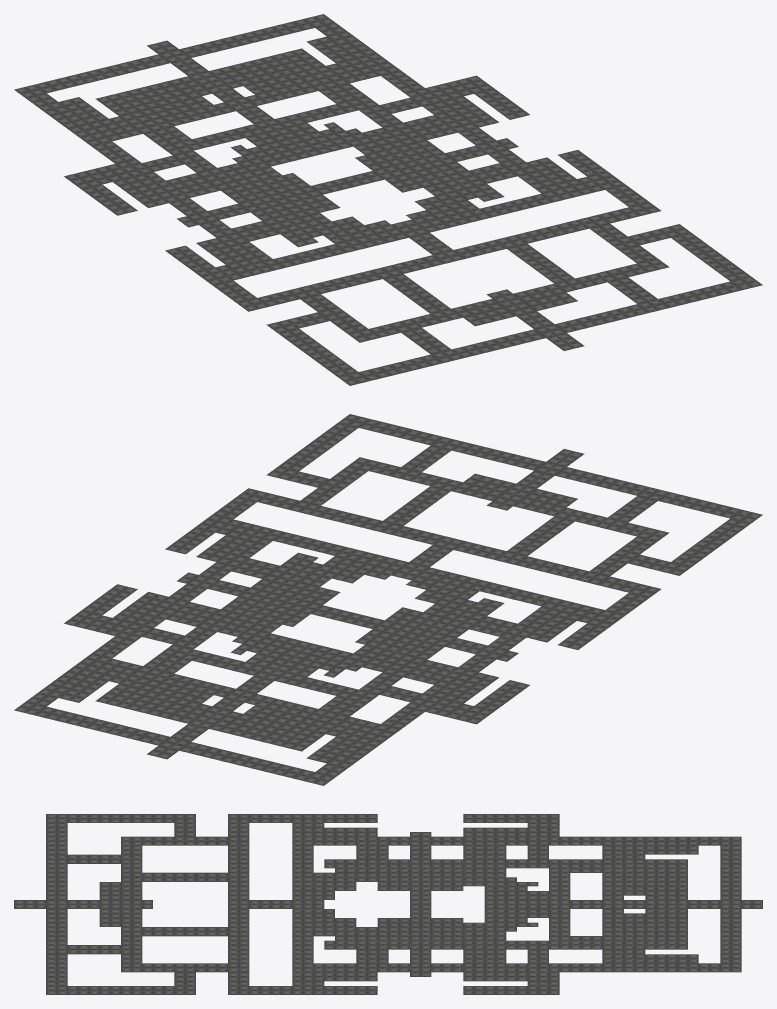
Rendered from Floor2Floors.fbx.
3 views of the same model, one above another, from view 1: azimuth 30°, elevation 25°; view 2: azimuth 150°, elevation 25°; view 3: azimuth 270°, elevation 25° (orthographic). The views are drawn at different scales.
Parts seen in each view (by area): view 1: Floor2Floors; view 2: Floor2Floors; view 3: Floor2Floors.
Boxes of the visible parts, left/top/right/bottom form: Floor2Floors: left=14, top=14, right=762, bottom=385; Floor2Floors: left=14, top=414, right=762, bottom=785; Floor2Floors: left=14, top=814, right=762, bottom=994.
Bounding box in the file's own units: 80 × 0.02 × 140.
